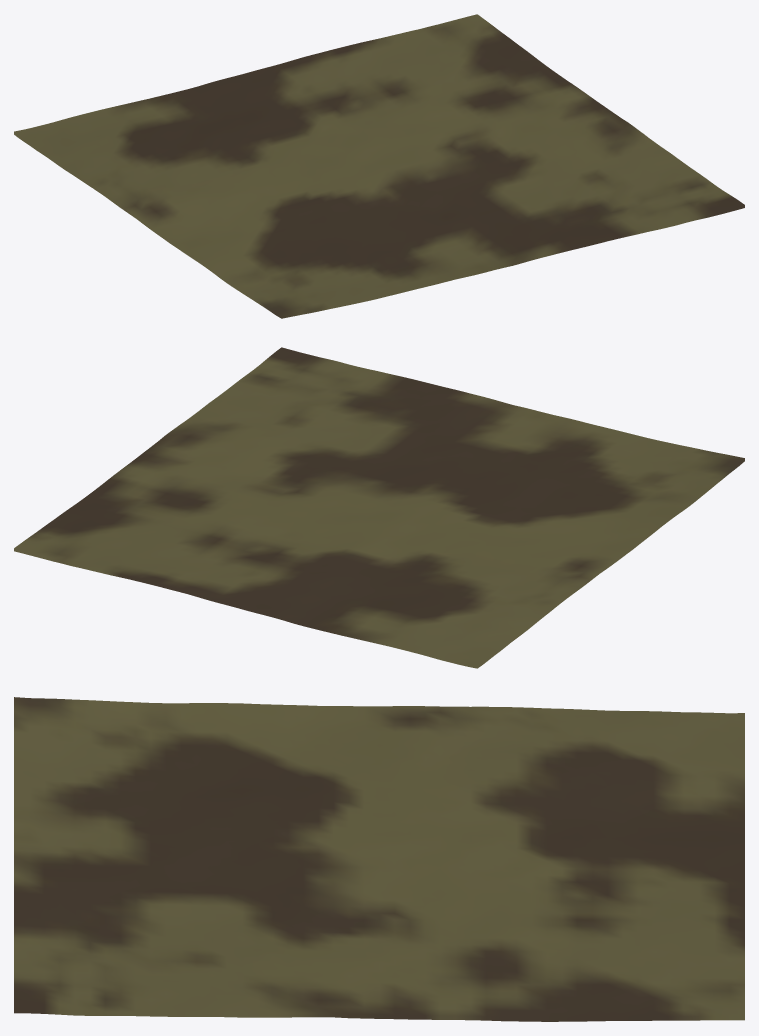
Rendered from land_m_11_09.glb.
The picture shows the model from 3 angles, top to bottom: view 1: azimuth 30°, elevation 25°; view 2: azimuth 150°, elevation 25°; view 3: azimuth 270°, elevation 25°; orthographic projection. The views are drawn at different scales.
Visible parts, largest first — view 1: land_m_11_09; view 2: land_m_11_09; view 3: land_m_11_09.
Part boxes in pixels (x1,y1,x2,y2): land_m_11_09: [14, 14, 744, 318]; land_m_11_09: [14, 347, 744, 668]; land_m_11_09: [14, 697, 744, 1021].
Bounding box in the file's own units: 960 × 30.29 × 960.
